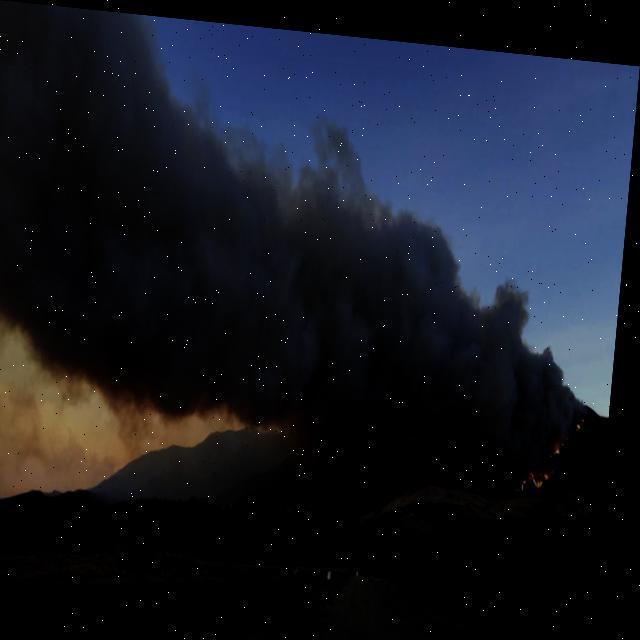Fire: (551, 394, 593, 452), (520, 450, 567, 488)
